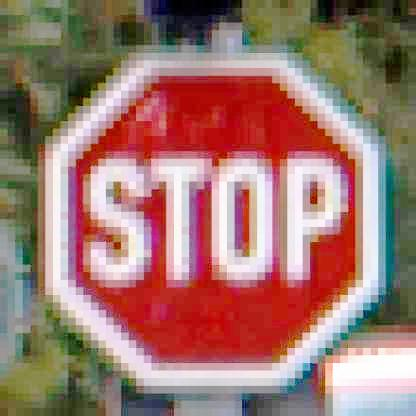Stop Sign: (49, 46, 392, 390)
